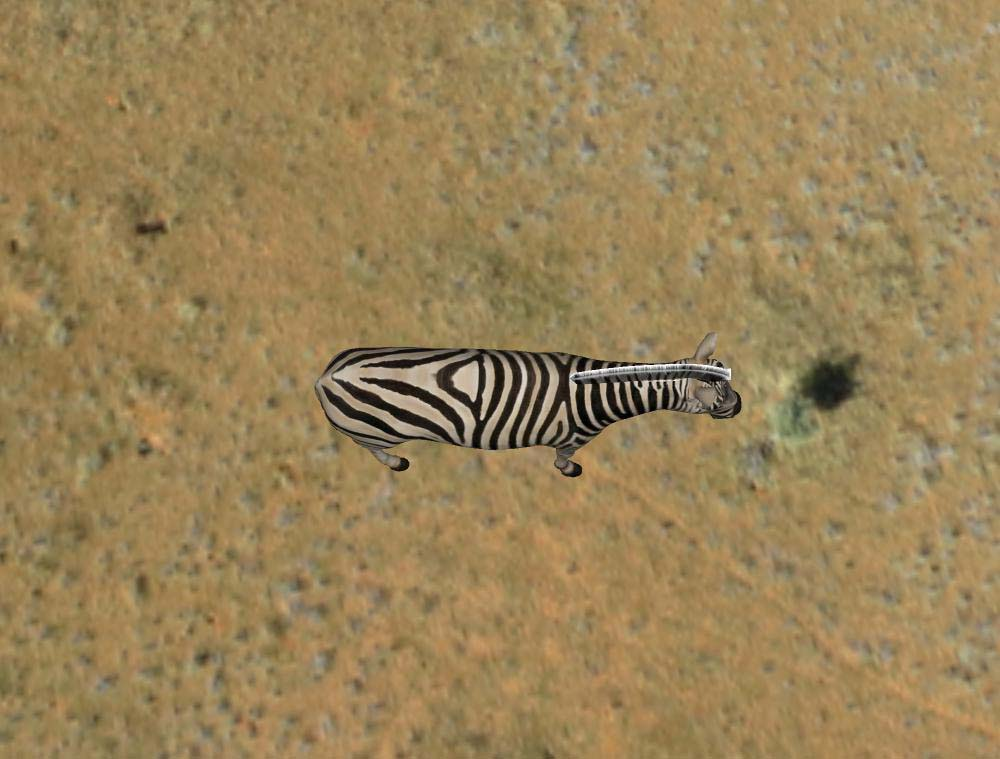zebra: (318, 321, 744, 481)
